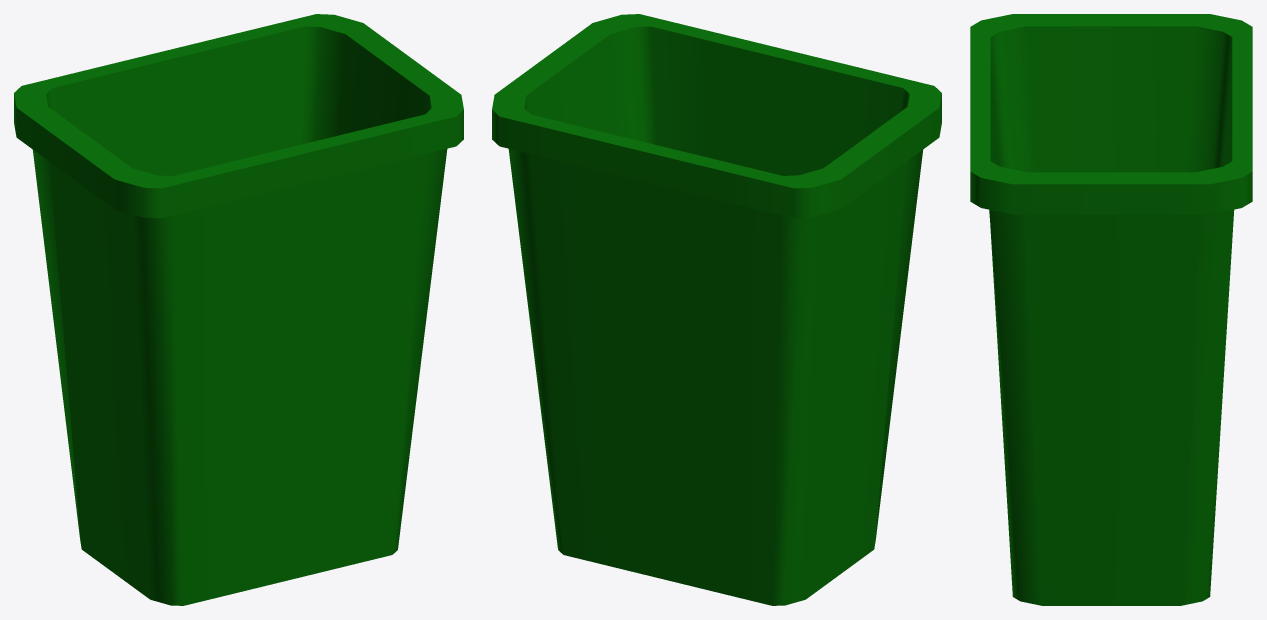
Rendered from Half TrashBucket.fbx.
3 renders of one model, left to right at view 1: azimuth 30°, elevation 25°; view 2: azimuth 150°, elevation 25°; view 3: azimuth 270°, elevation 25°, orthographic.
Parts seen in each view (by area): view 1: Half_TrashBucket; view 2: Half_TrashBucket; view 3: Half_TrashBucket.
Part boxes in pixels (<box>): Half_TrashBucket: <box>14,14,463,605</box>; Half_TrashBucket: <box>492,14,941,605</box>; Half_TrashBucket: <box>970,14,1252,605</box>.
Bounding box in the file's own units: 0.4419 × 0.5398 × 0.3091.
